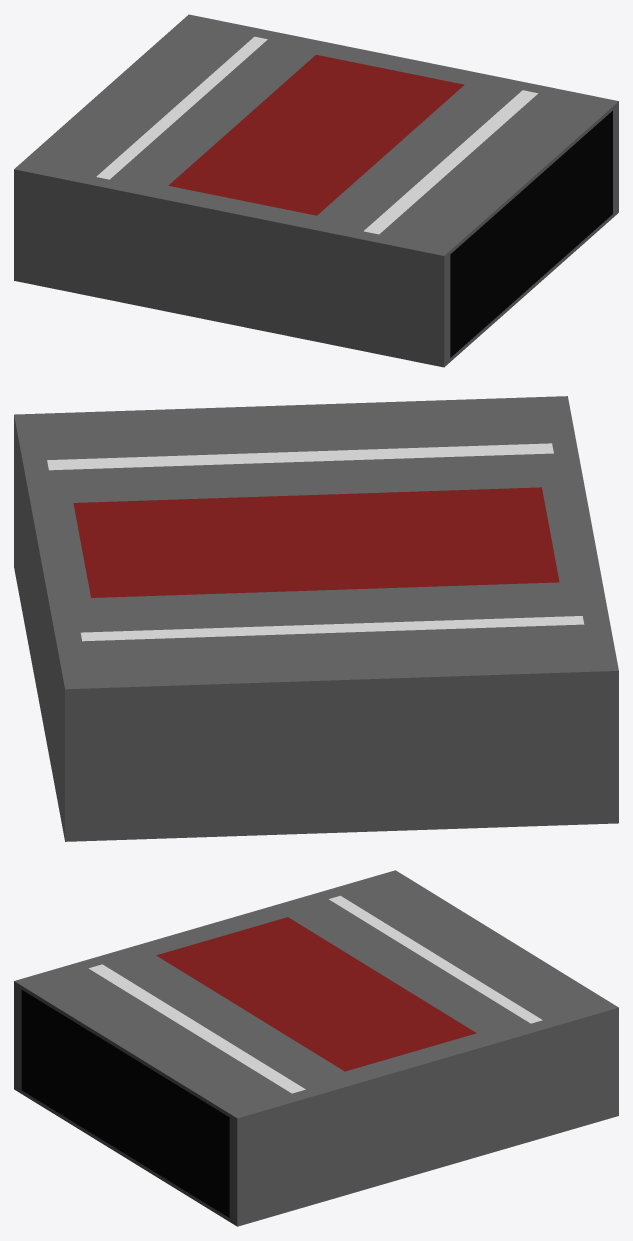
The model's file is cigs2.fbx.
3 renders of one model, top to bottom at view 1: azimuth 30°, elevation 25°; view 2: azimuth 150°, elevation 25°; view 3: azimuth 270°, elevation 25°, orthographic. The views are drawn at different scales.
Visible parts, largest first — view 1: Cube; view 2: Cube; view 3: Cube.
Boxes of the visible parts, <box> form: Cube: <box>14,14,618,367</box>; Cube: <box>14,396,618,841</box>; Cube: <box>14,870,618,1226</box>.
Bounding box in the file's own units: 298 × 60.61 × 307.
